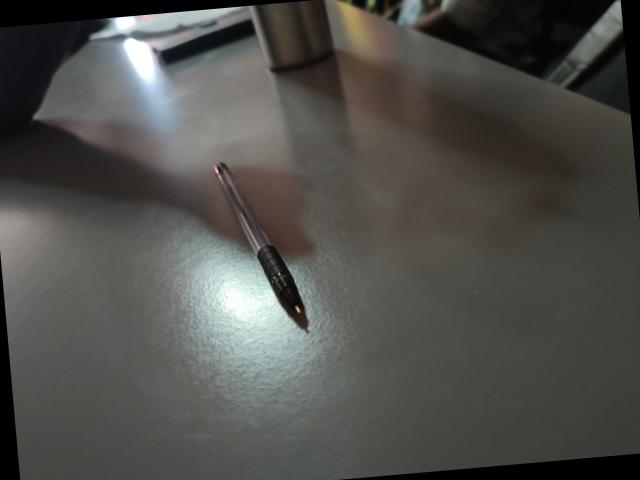PEN: (207, 154, 314, 335)
